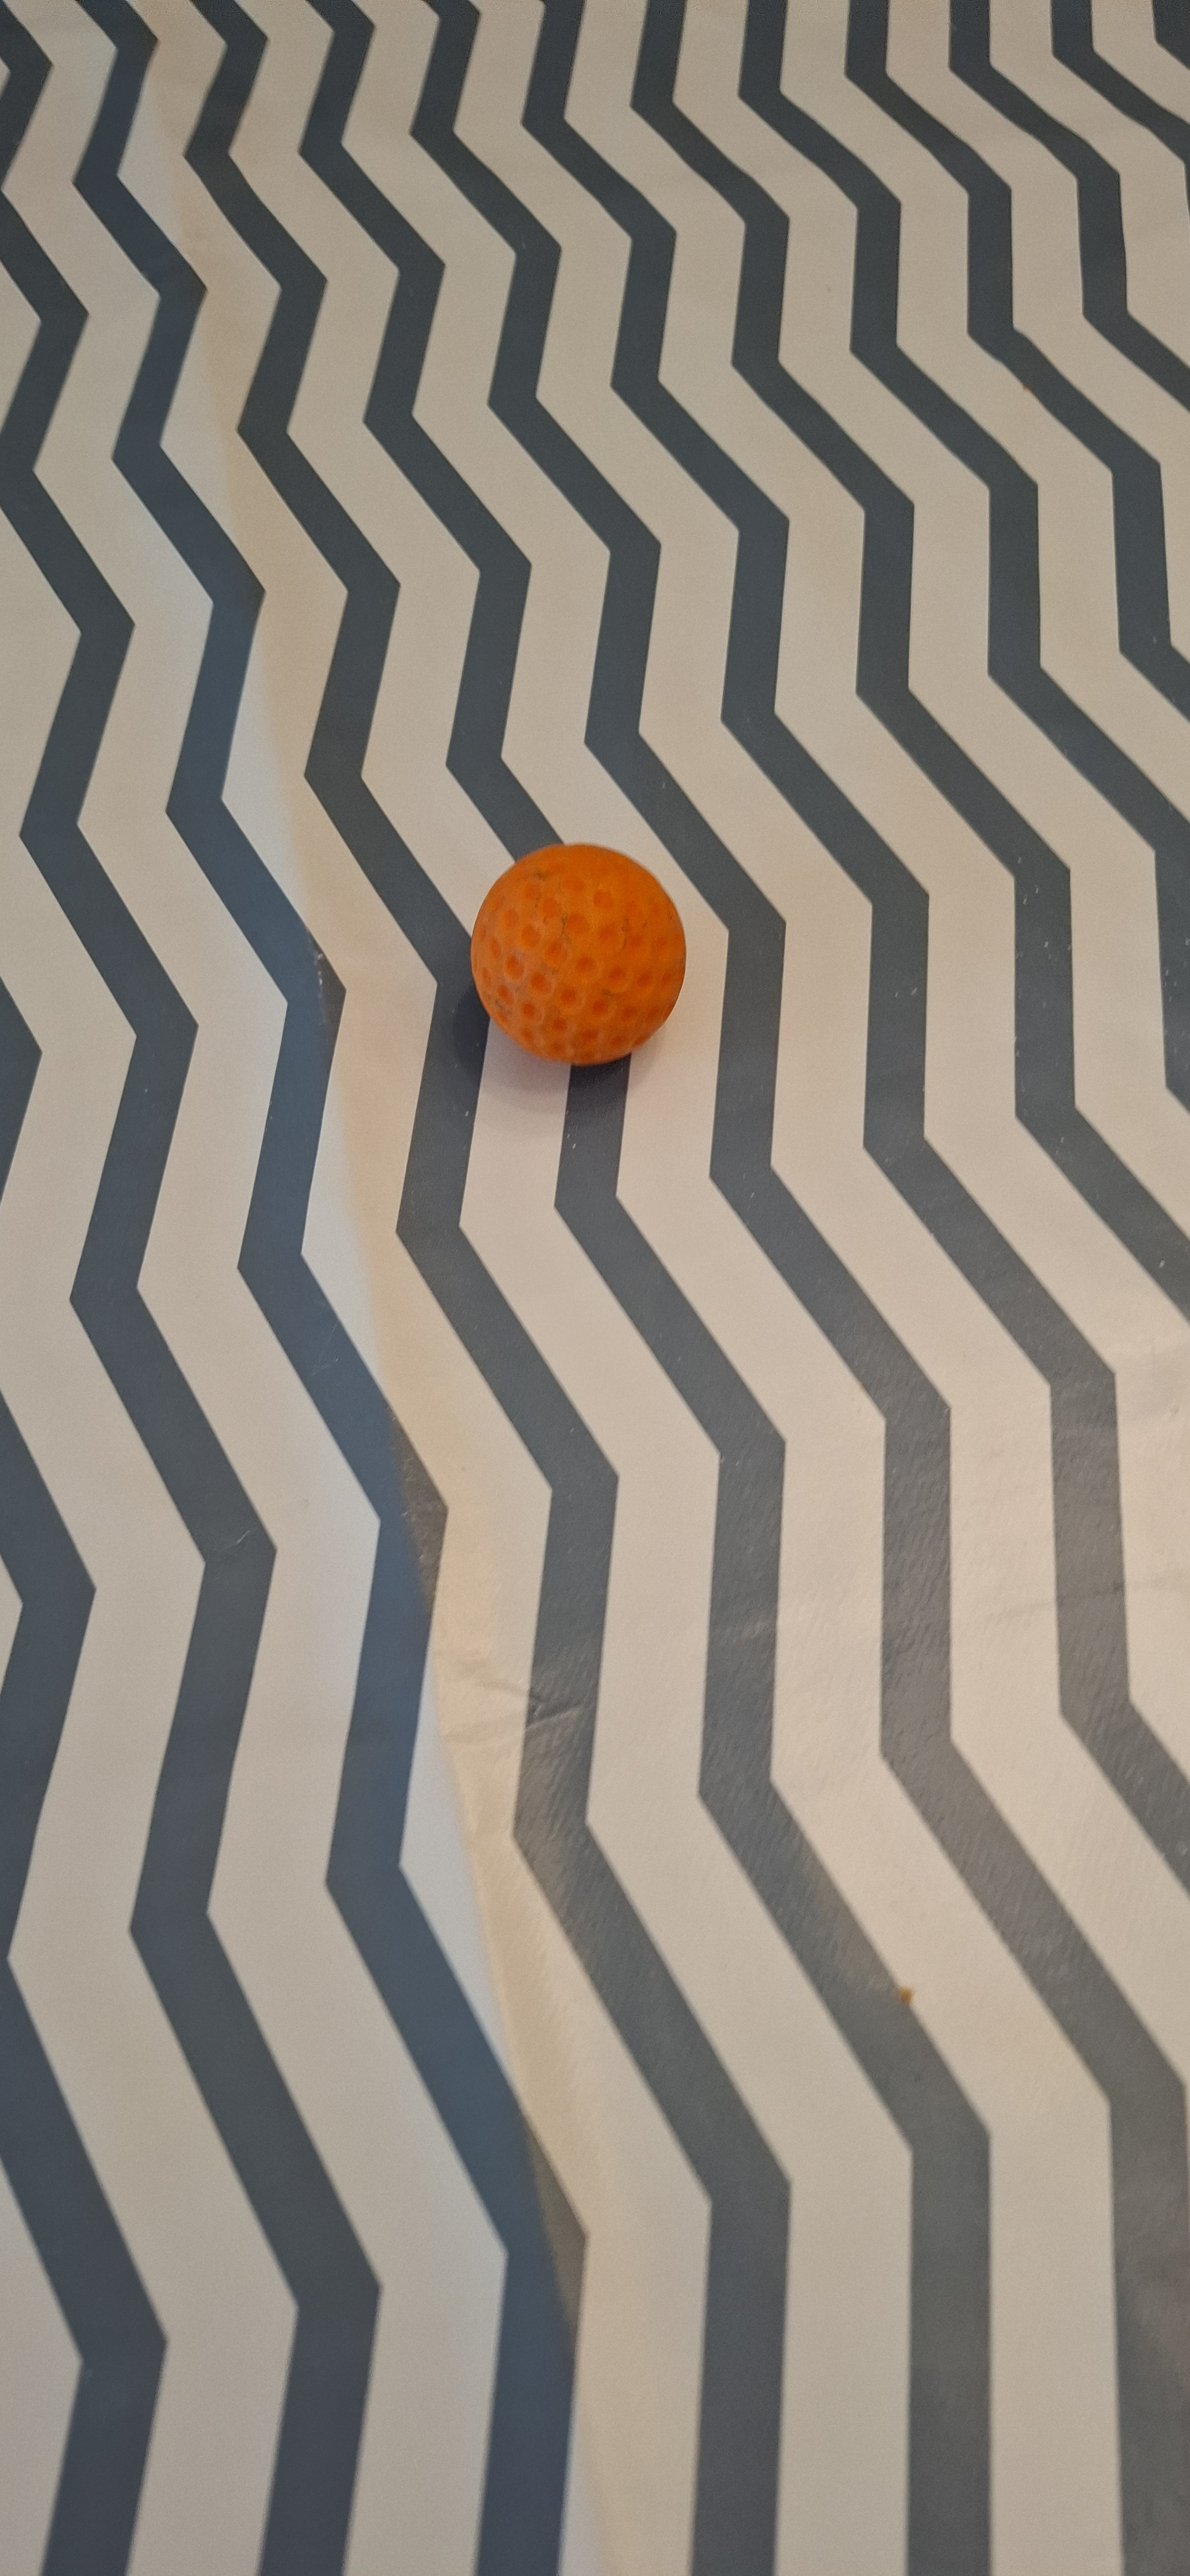ball: (390, 1086, 491, 1562)
